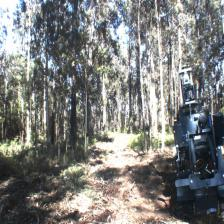trunktrack_idkeyframe: (70, 99, 77, 150)
